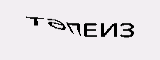Б: (22, 17, 39, 41)
К: (37, 13, 69, 39)
Л: (95, 16, 117, 41)
О: (117, 23, 132, 42)
П: (72, 12, 93, 39)
